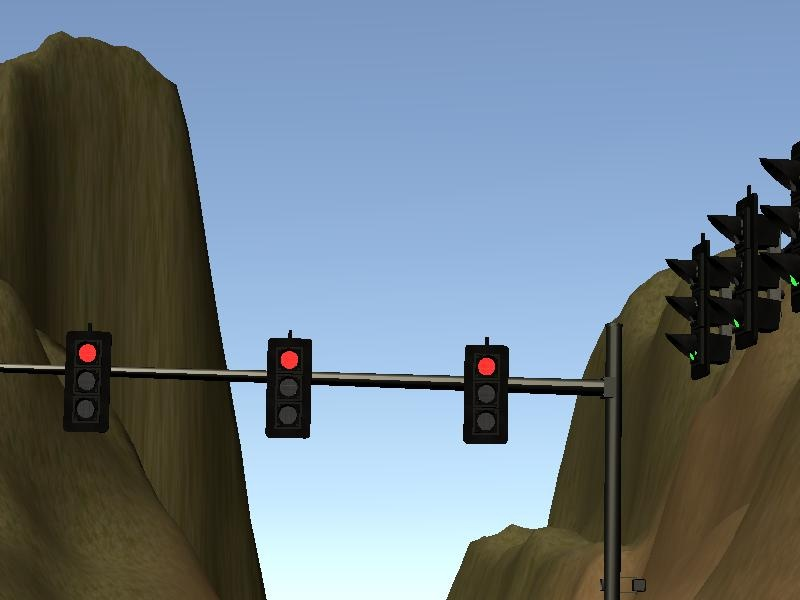red: (265, 327, 316, 445), (62, 324, 114, 437), (461, 340, 514, 450)
